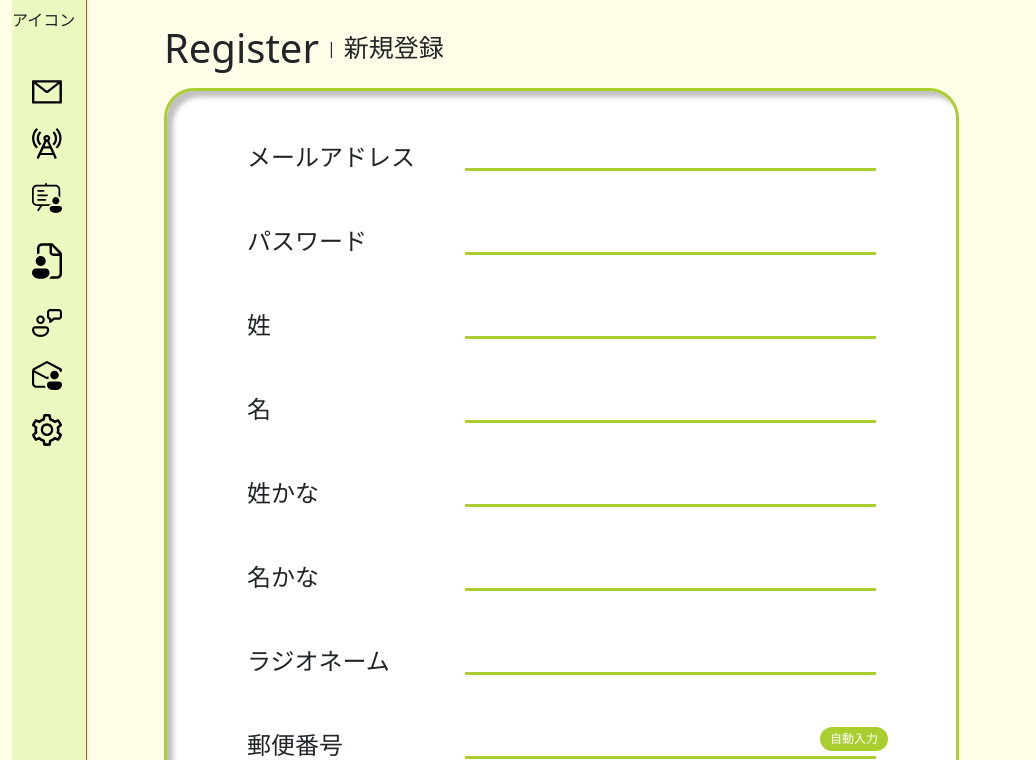
Test: 新規登録 › メールアドレスのフォーマットが異なっているとバリデーションメッセージが表示される
The image size is (1036, 760).
Type "test" into the field with test id "register-input-email" at (670, 157), box [465,143,876,171]
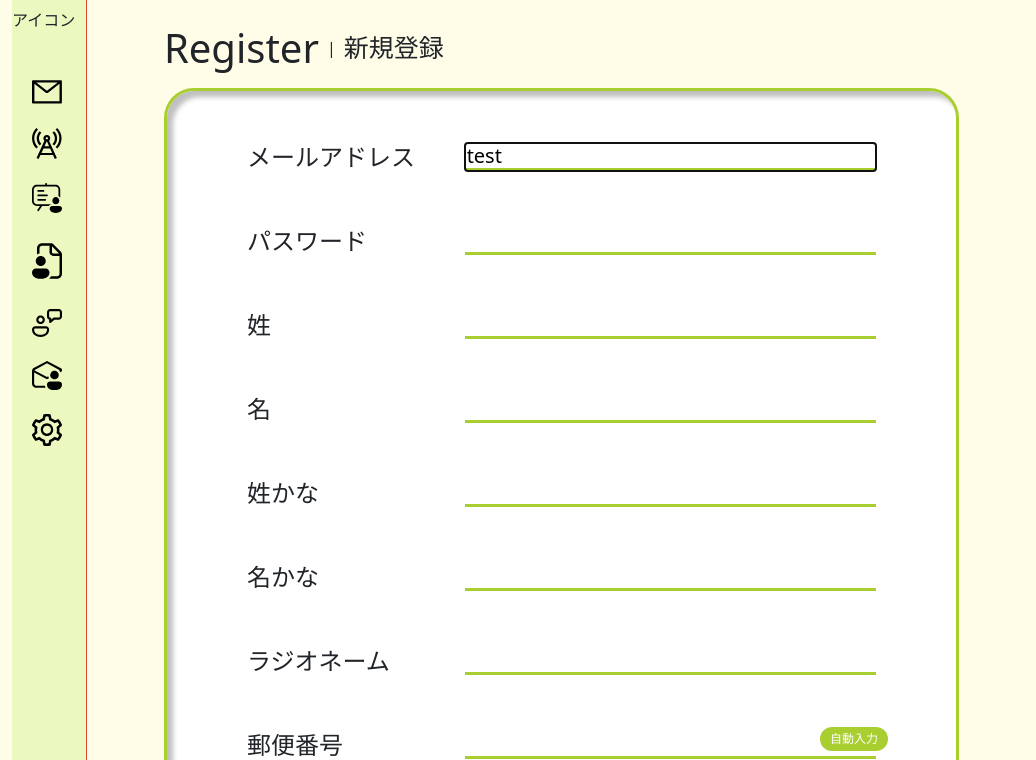
Type "passwordpassword" into the password field with test id "register-input-password" at (670, 241), box [465,227,876,255]
(page scrolled)
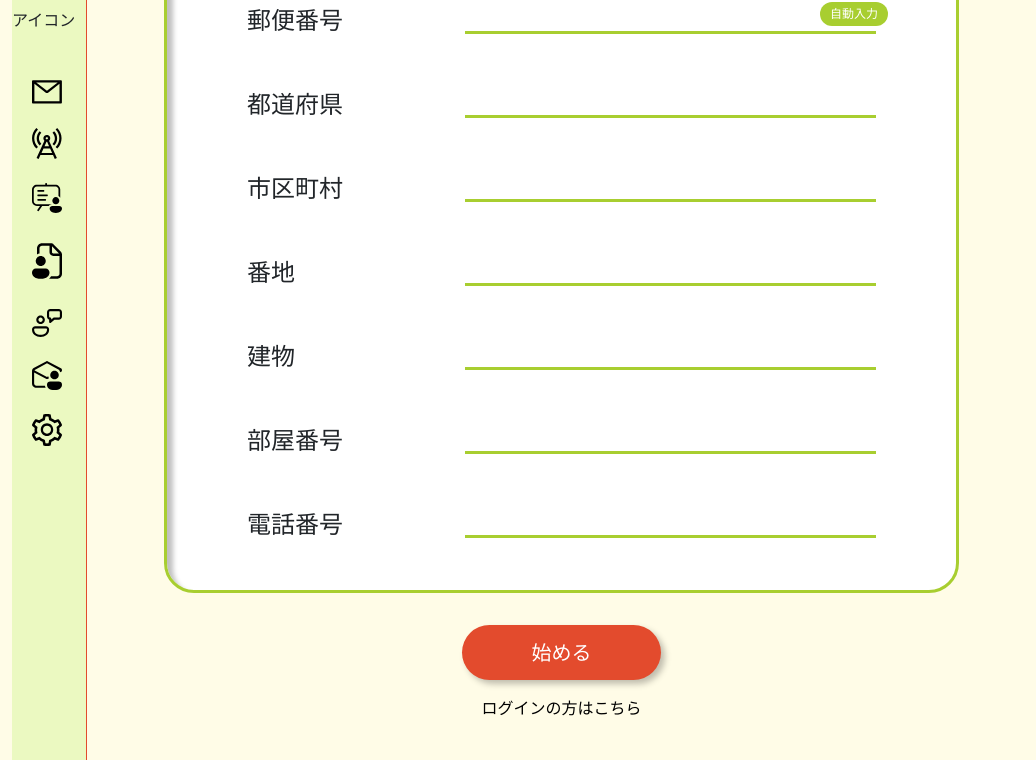
Click the button with test id "register-button" at (562, 652), box [462,625,661,680]
(page scrolled)
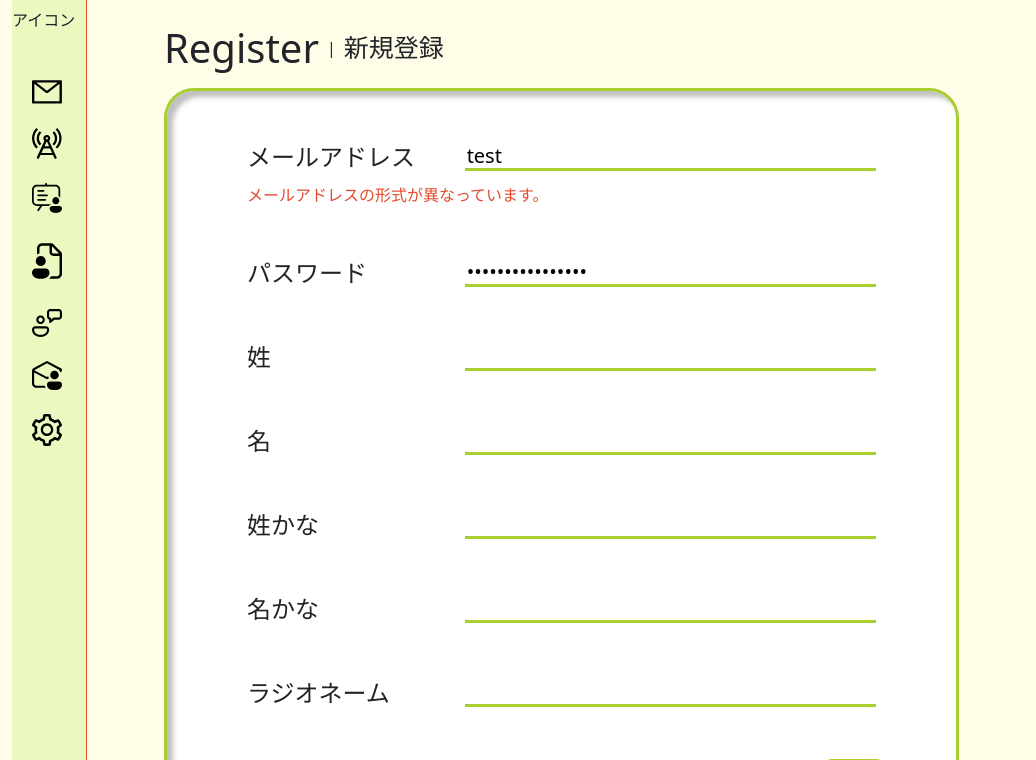
Expected: the text "メールアドレスの形式が異なっています。" is shown, [247,184,548,206]
